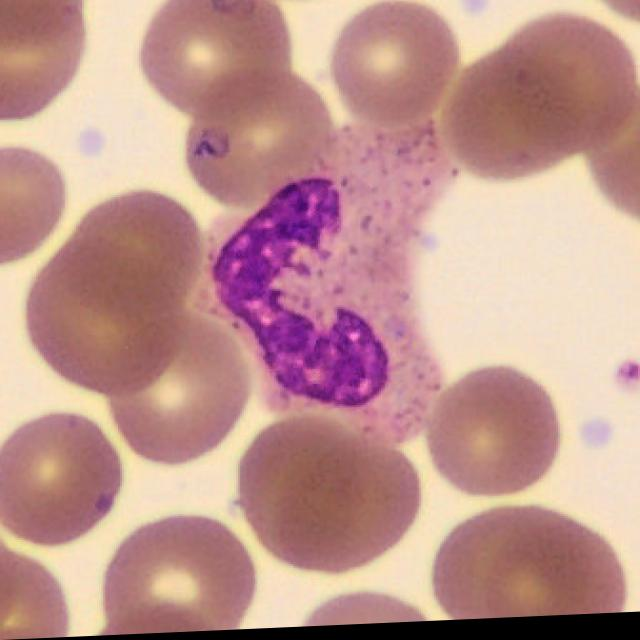Neutrofilo segmentado: (211, 120, 455, 451)
